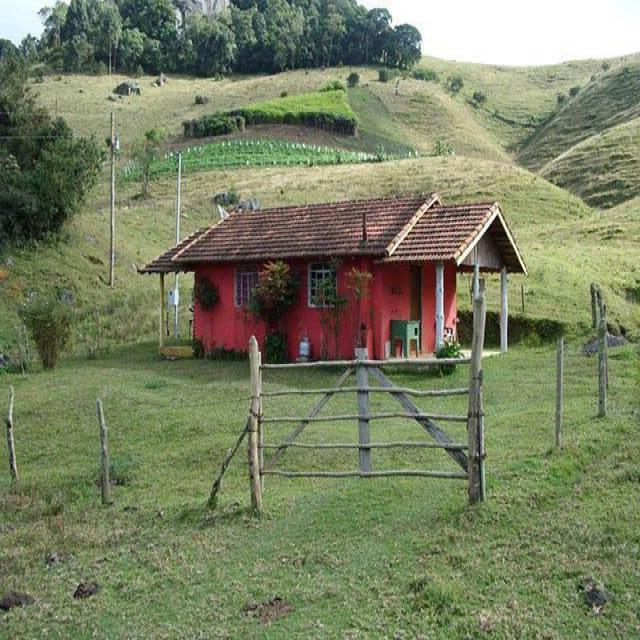Fachada: (140, 192, 527, 360)
